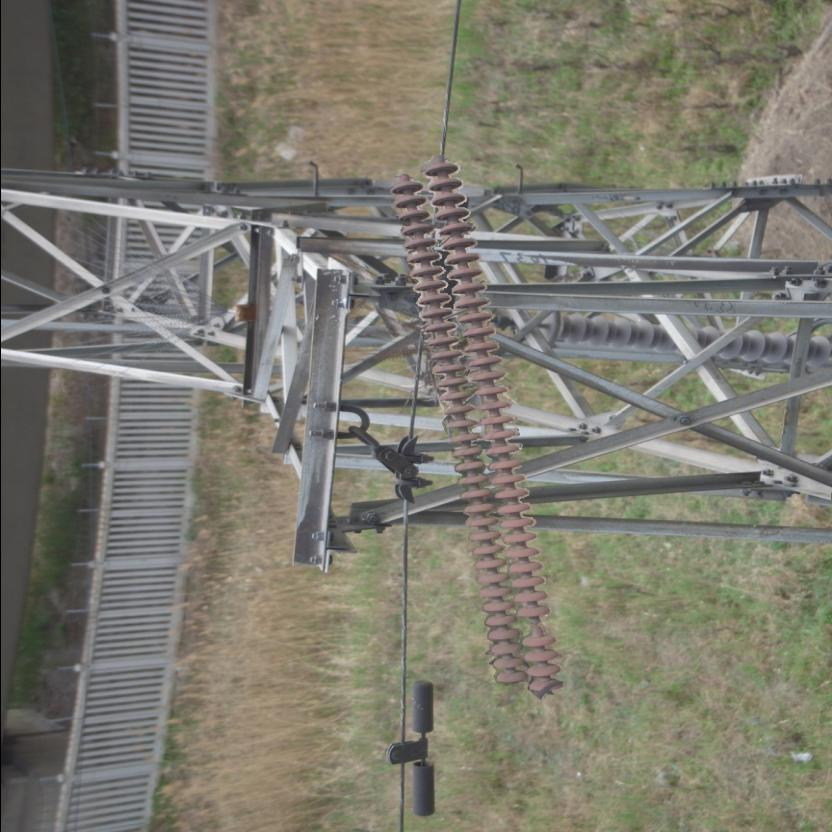defect: (508, 602, 556, 650)
